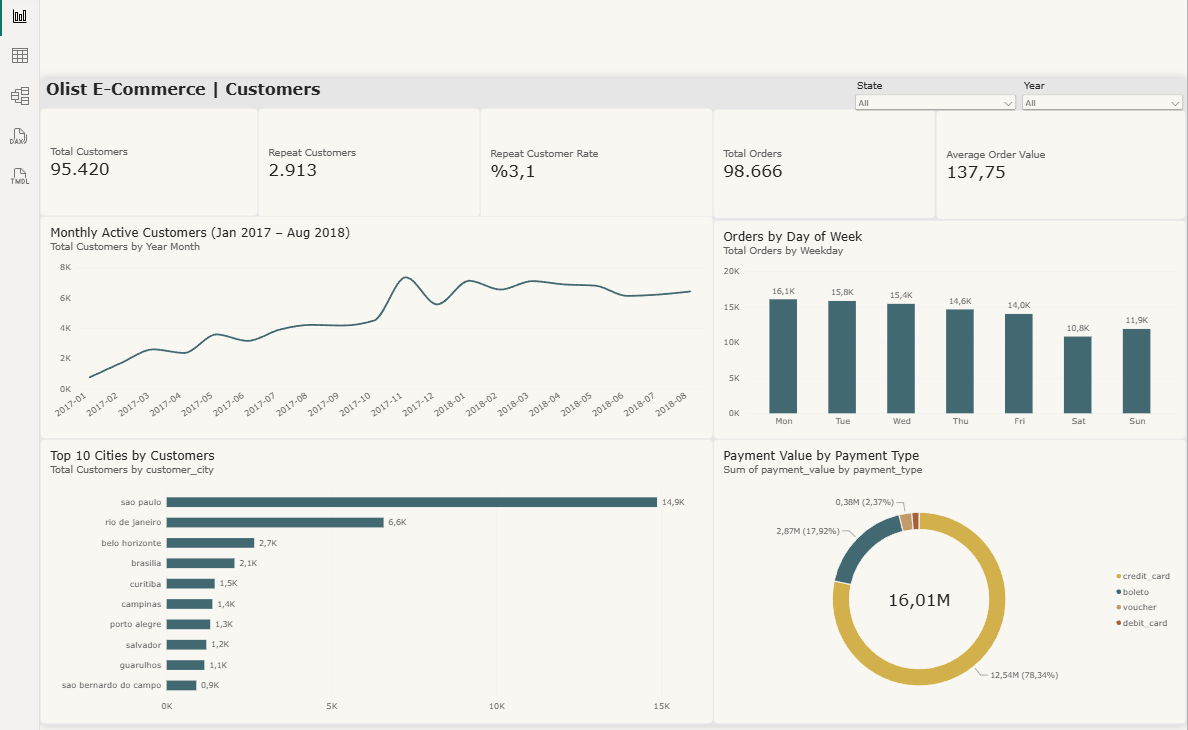

The dashboard page shown, as its layout file describes it:
{"tool":"powerbi","page":{"name":"Customers","canvas":[1920,1080],"ordinal":2},"visuals":[{"type":"textbox","box":[9.3,0,462.8,281.4],"z":0},{"type":"cardVisual","fields":{"Data":["_Measures.Total Customers"]},"box":[0,48.8,365.1,181.4],"z":1000},{"type":"cardVisual","fields":{"Data":["_Measures.Total Orders"]},"box":[1126.6,50.2,372.1,183.7],"z":2000},{"type":"cardVisual","fields":{"Data":["_Measures.Average Order Value"]},"box":[1500,51.2,418.6,183.7],"z":3000},{"type":"cardVisual","fields":{"Data":["_Measures.Repeat Customers"]},"box":[365.5,49.3,372.1,183.7],"z":4000},{"type":"cardVisual","fields":{"Data":["_Measures.Repeat Customer Rate"]},"box":[737.2,48.8,390.7,186],"z":5000},{"type":"slicer","fields":{"Values":["Customers.customer_state"]},"box":[1359.2,0,279.9,279.9],"z":8000},{"type":"slicer","fields":{"Values":["DimDate.Year"]},"box":[1638.8,0,280,280],"z":9000},{"type":"lineChart","title":"Monthly Active Customers (Jan 2017 – Aug 2018)","fields":{"Category":["DimDate.Year Month"],"Y":["_Measures.Total Customers"]},"box":[0,229.3,1126.6,373.3],"z":9001},{"type":"clusteredBarChart","title":"Top 10 Cities by Customers","fields":{"Category":["Customers.customer_city"],"Y":["_Measures.Total Customers"]},"box":[0,602.6,1126.6,477.1],"z":9002},{"type":"clusteredColumnChart","title":"Orders by Day of Week","fields":{"Category":["DimDate.Weekday"],"Y":["_Measures.Total Orders"]},"box":[1126.6,236,791.8,366.6],"z":9003},{"type":"donutChart","title":"Payment Value by Payment Type","fields":{"Category":["Payments.payment_type"],"Y":["Sum(Payments.payment_value)"]},"box":[1127,603,792,477],"z":9004}]}

Visuals, with their boxes on the page's 1920x1080 design canvas (x1, y1, x2, y2). These are canvas units, not pixel positions in the 1188x730 screenshot, which may show the page scaled, cropped or inside an application window:
textbox: (left=9, top=0, right=472, bottom=281)
cardVisual - _Measures.Total Customers: (left=0, top=49, right=365, bottom=230)
cardVisual - _Measures.Total Orders: (left=1127, top=50, right=1499, bottom=234)
cardVisual - _Measures.Average Order Value: (left=1500, top=51, right=1919, bottom=235)
cardVisual - _Measures.Repeat Customers: (left=366, top=49, right=738, bottom=233)
cardVisual - _Measures.Repeat Customer Rate: (left=737, top=49, right=1128, bottom=235)
slicer - Customers.customer_state: (left=1359, top=0, right=1639, bottom=280)
slicer - DimDate.Year: (left=1639, top=0, right=1919, bottom=280)
"Monthly Active Customers (Jan 2017 – Aug 2018)" lineChart: (left=0, top=229, right=1127, bottom=603)
"Top 10 Cities by Customers" clusteredBarChart: (left=0, top=603, right=1127, bottom=1080)
"Orders by Day of Week" clusteredColumnChart: (left=1127, top=236, right=1918, bottom=603)
"Payment Value by Payment Type" donutChart: (left=1127, top=603, right=1919, bottom=1080)
